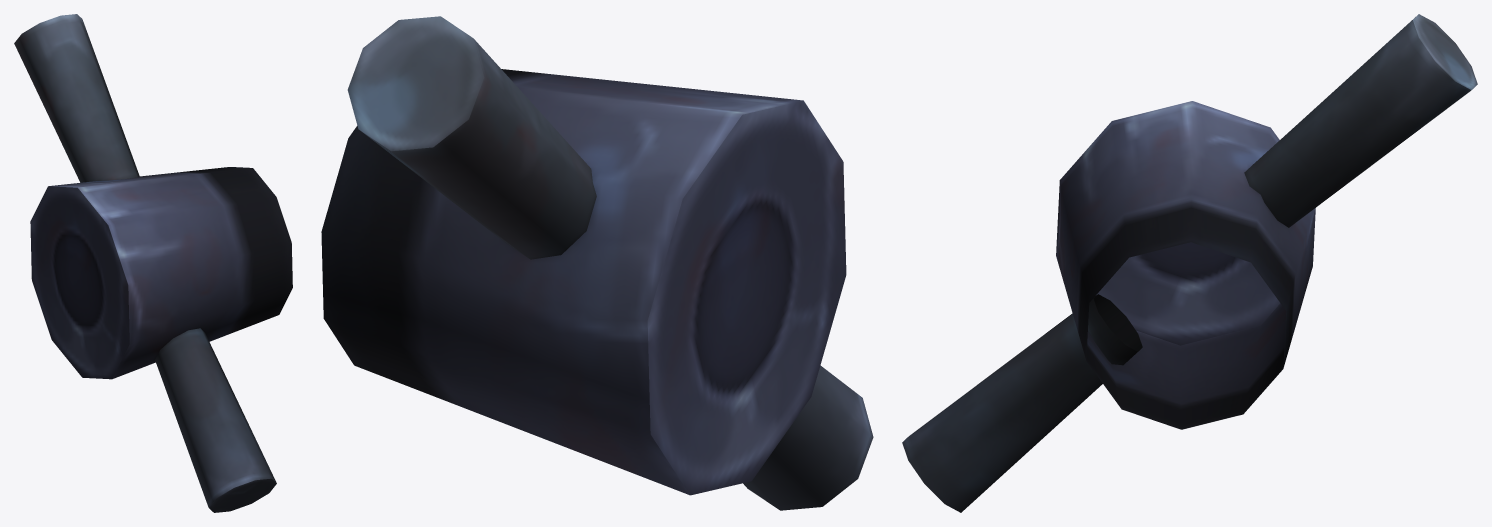
Rendered from balista_levers.fbx.
3 views of the same model, side by side, from view 1: azimuth 30°, elevation 25°; view 2: azimuth 150°, elevation 25°; view 3: azimuth 270°, elevation 25° (orthographic). The views are drawn at different scales.
Visible parts, largest first — view 1: balista_levers; view 2: balista_levers; view 3: balista_levers.
Part boxes in pixels (bbox=[...]): balista_levers: bbox=[14, 14, 292, 512]; balista_levers: bbox=[321, 16, 873, 510]; balista_levers: bbox=[902, 14, 1477, 512].
Bounding box in the file's own units: 0.2367 × 0.4809 × 0.5149.
